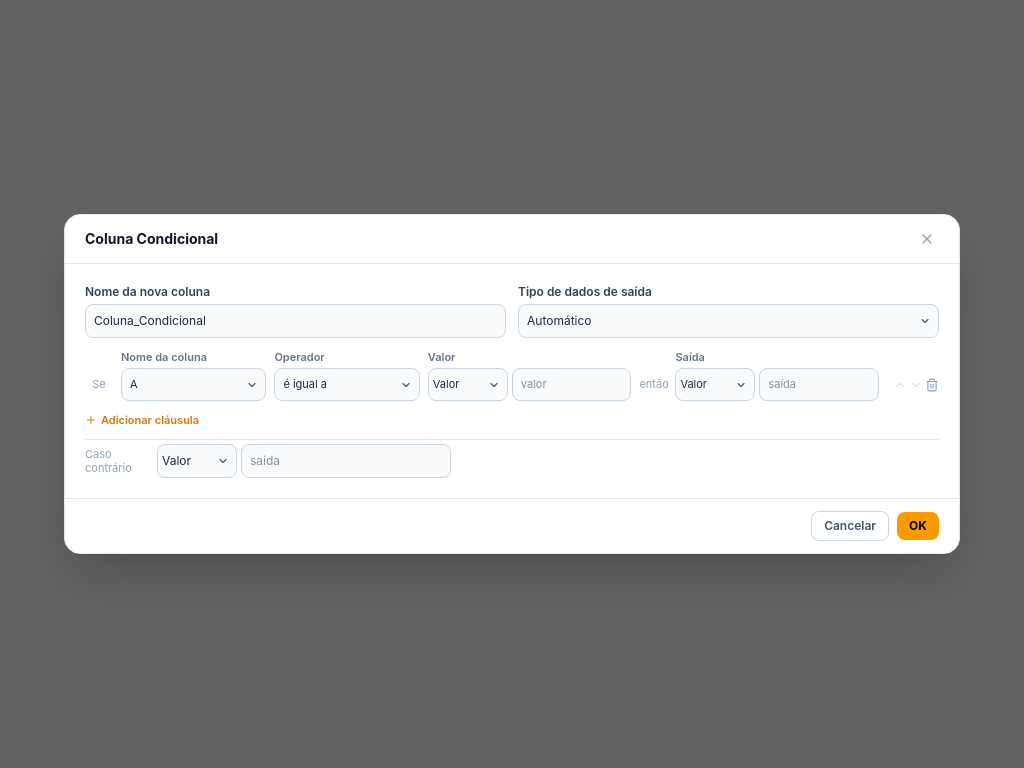
Test case: ConditionalColumnDialog › reorders and removes clauses
The width and height of the screenshot is (1024, 768).
What coordinates should you click on to do the following:
click the button "Adicionar cláusula"
I would click on:
 (142, 420)
Its box is [85, 413, 199, 428].
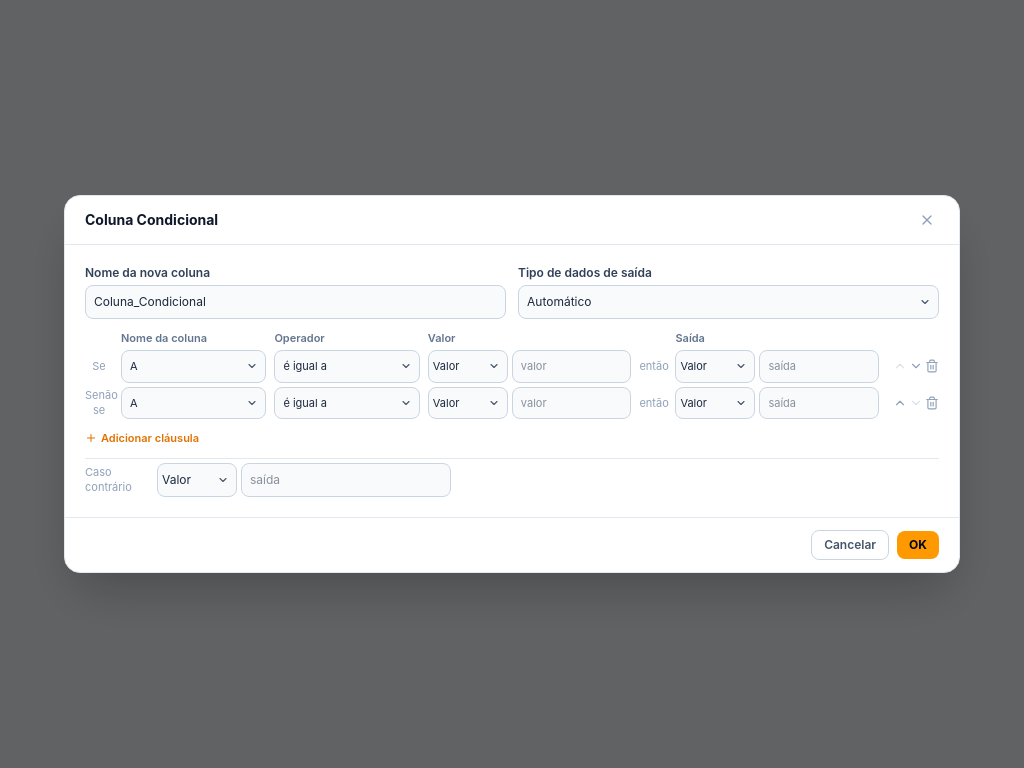
Expected: the dropdown with test id "clause-0-column" is shown, [121, 350, 266, 382]
Expected: the dropdown with test id "clause-1-column" is shown, [121, 386, 266, 419]
What coordinates should you click on to do the following:
click the 2nd button named "Remover cláusula"
I would click on:
 (932, 403)
Its box is [925, 396, 939, 410].
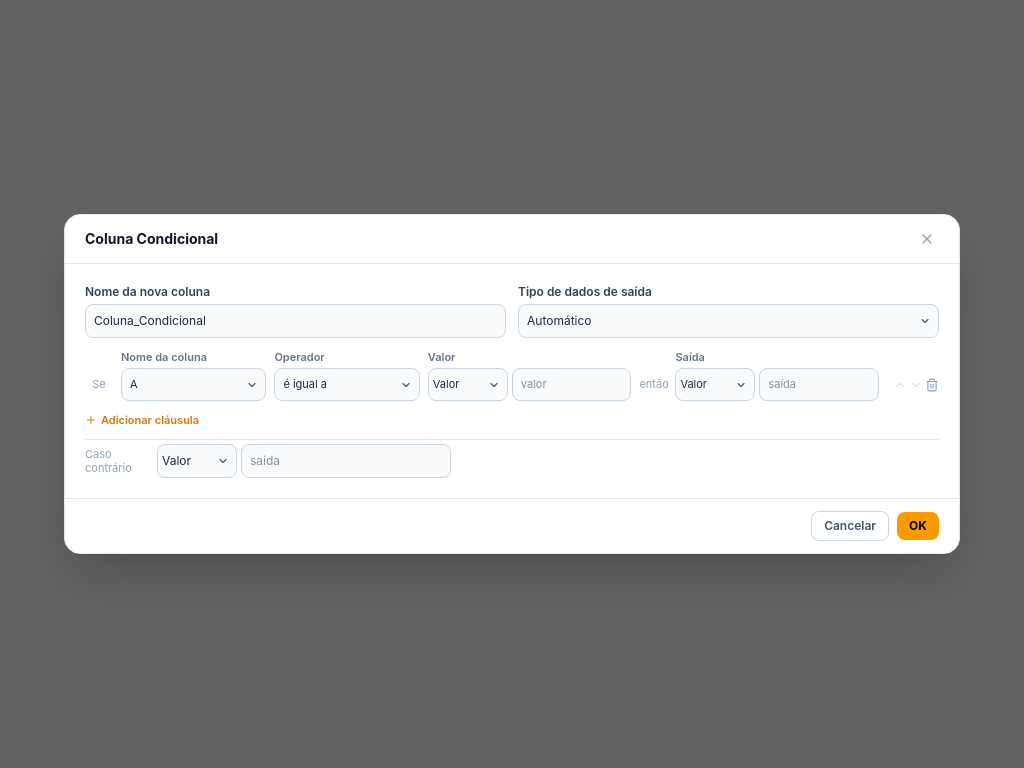
Expected: the dropdown with test id "clause-1-column" is gone
